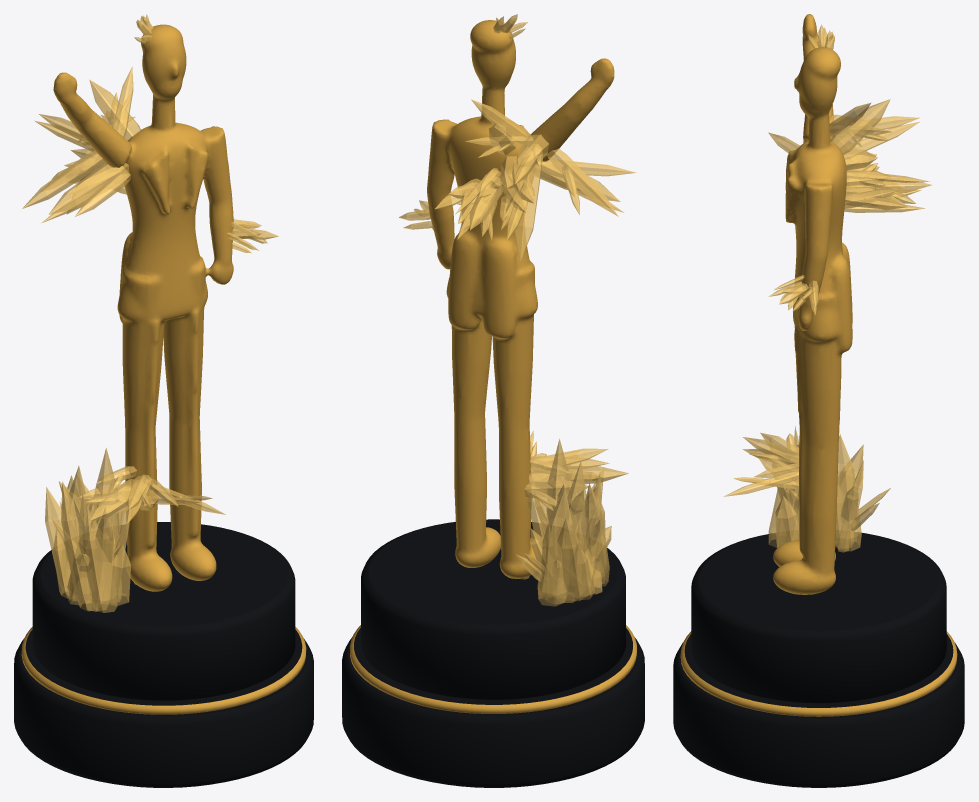
Rendered from avatar_gentleman_wave.glb.
The picture shows the model from 3 angles, left to right: view 1: azimuth 30°, elevation 25°; view 2: azimuth 150°, elevation 25°; view 3: azimuth 270°, elevation 25°; orthographic projection. The views are drawn at different scales.
Visible parts, largest first — view 1: Pedestal, Gentleman sculpt, Six dense crystal colonies; view 2: Pedestal, Gentleman sculpt, Six dense crystal colonies; view 3: Pedestal, Gentleman sculpt, Six dense crystal colonies.
Boxes of the visible parts, bbox=[...] form: Pedestal: bbox=[14, 522, 313, 787]; Gentleman sculpt: bbox=[53, 24, 233, 591]; Six dense crystal colonies: bbox=[22, 14, 278, 612]; Pedestal: bbox=[342, 519, 644, 787]; Gentleman sculpt: bbox=[427, 20, 614, 578]; Six dense crystal colonies: bbox=[399, 14, 636, 606]; Pedestal: bbox=[673, 532, 964, 787]; Gentleman sculpt: bbox=[773, 14, 852, 594]; Six dense crystal colonies: bbox=[723, 24, 931, 552].
Size of the model in its own units: 0.3856 by 1 by 0.3805.
